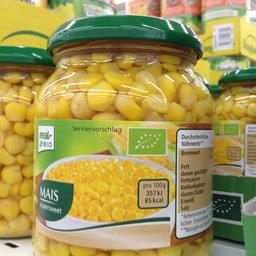corn: (30, 14, 212, 254)
